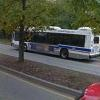Bus: (10, 22, 98, 60)
